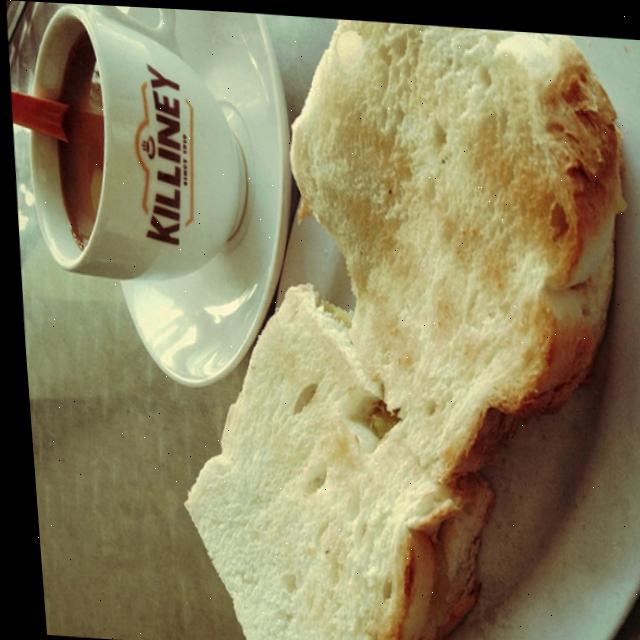面包点心: (112, 9, 640, 640)
